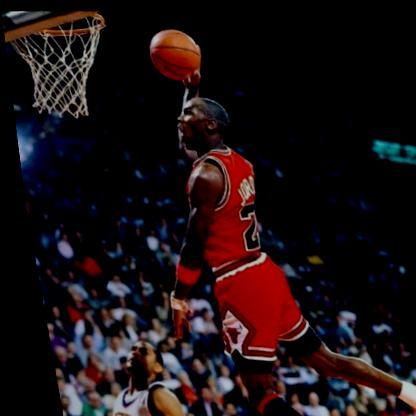basketball: (144, 24, 202, 82)
rim: (9, 5, 118, 119)
